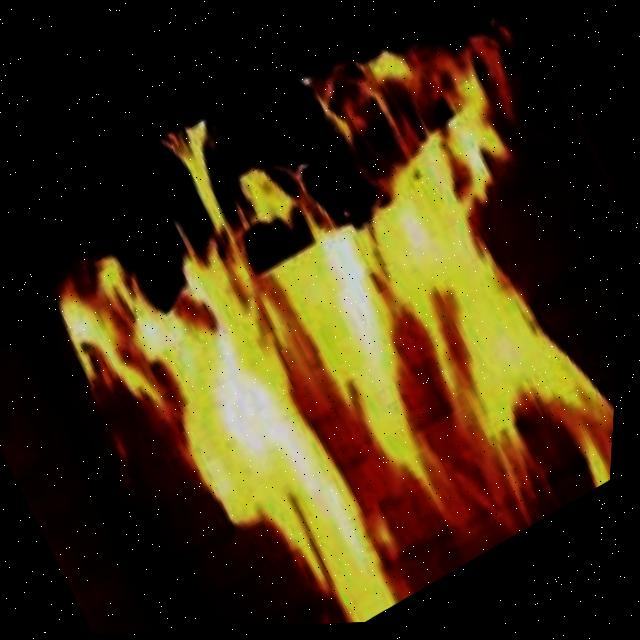Fire: (35, 52, 637, 638)
